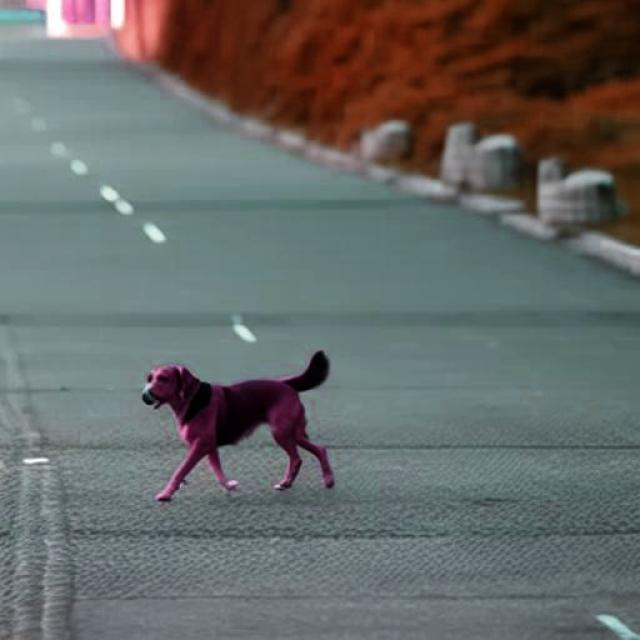Dog: (141, 349, 335, 502)
